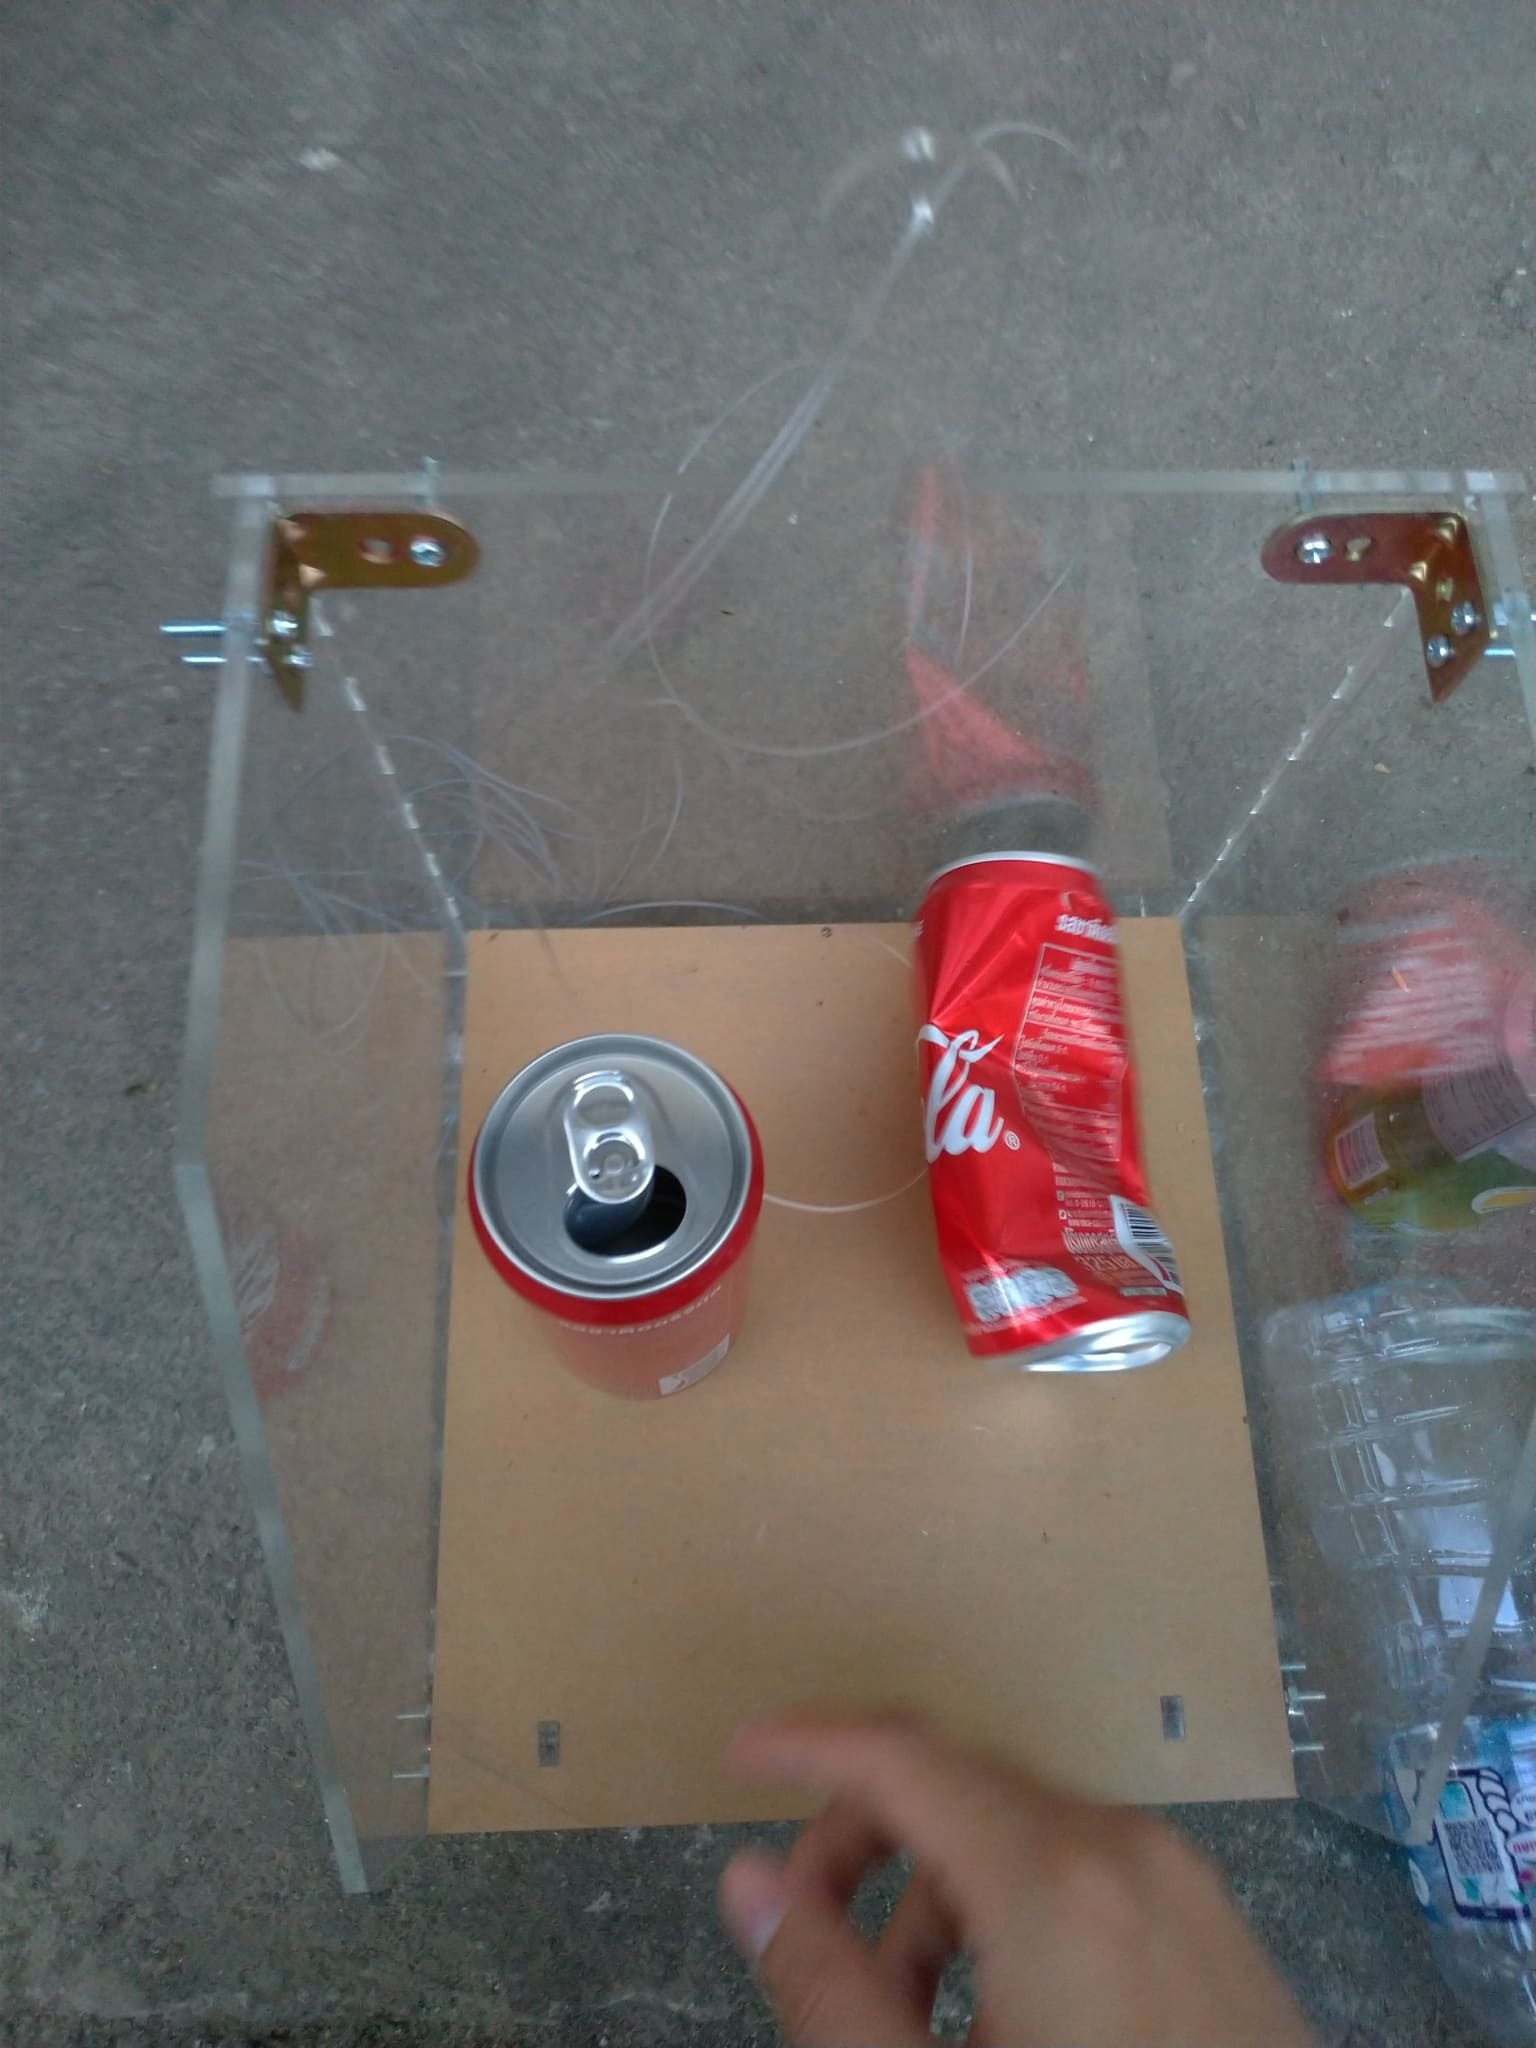AlCan: (913, 845, 1200, 1380), (473, 1034, 763, 1398), (1325, 1051, 1536, 1250)
PlasticBottle: (1263, 1280, 1534, 2038)
